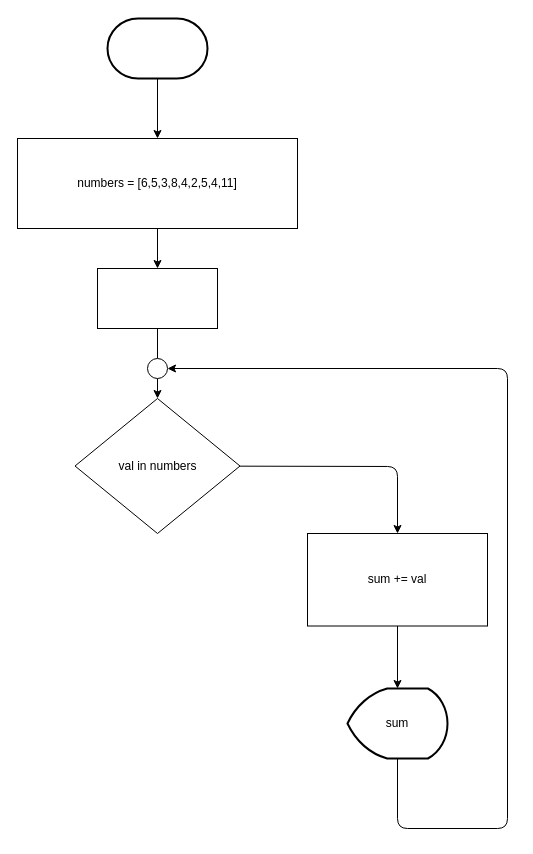
This 533x854 diagram has some shape labels left out. Each missing label, with the centre of its shape:
"Start" goes at [157,48].
"sum = 0" goes at [157,298].
